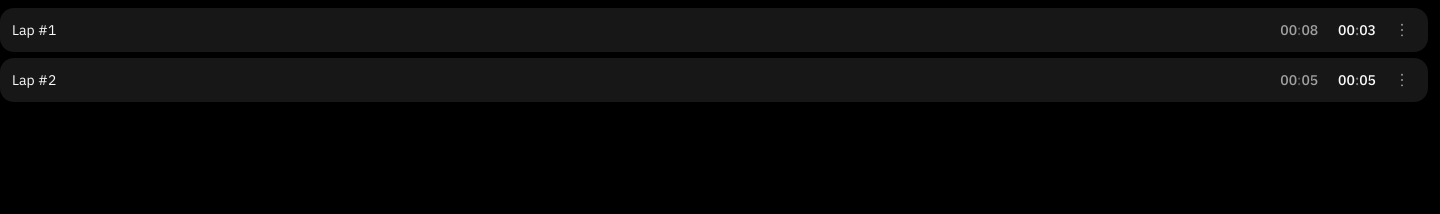
Scenario: Laps › opens the menu on a tap
Click the button titled "Mais opções" next to "03" at (1402, 30), box [1384, 12, 1420, 48]
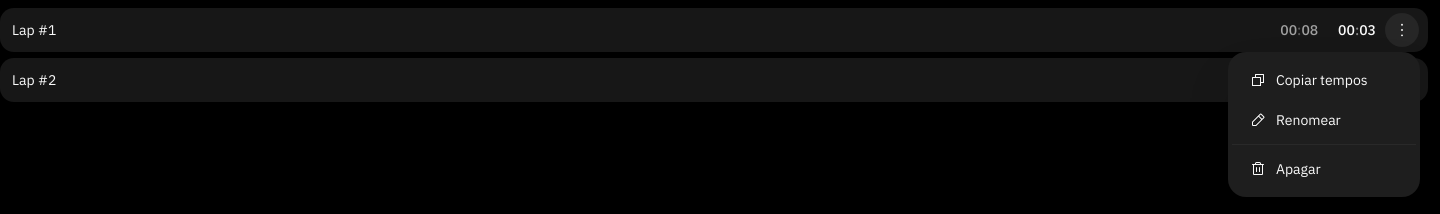
Expected: the menu item "Renomear" is shown, [1250, 111, 1341, 129]
